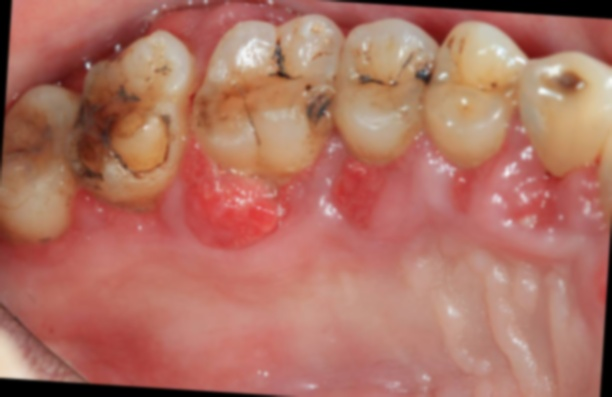Gingivitis: (171, 148, 294, 250), (324, 157, 398, 231)
